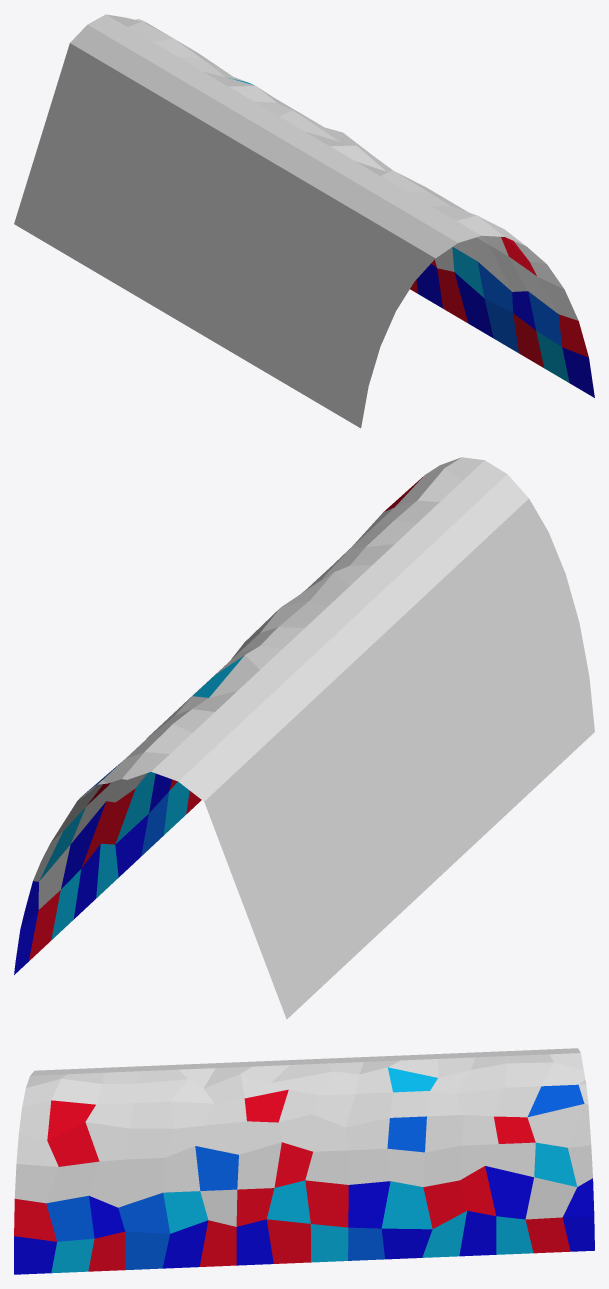
Rendered from ParteAlargadaBajo.fbx.
3 views of the same model, one above another, from view 1: azimuth 30°, elevation 25°; view 2: azimuth 150°, elevation 25°; view 3: azimuth 270°, elevation 25° (orthographic). The views are drawn at different scales.
Visible parts, largest first — view 1: Sphere.007; view 2: Sphere.007; view 3: Sphere.007.
Boxes of the visible parts, x1,y1,x2,y2 form: Sphere.007: [14, 14, 594, 428]; Sphere.007: [14, 457, 594, 1019]; Sphere.007: [14, 1048, 594, 1274].
Size of the model in its own units: 119 by 80.92 by 269.
